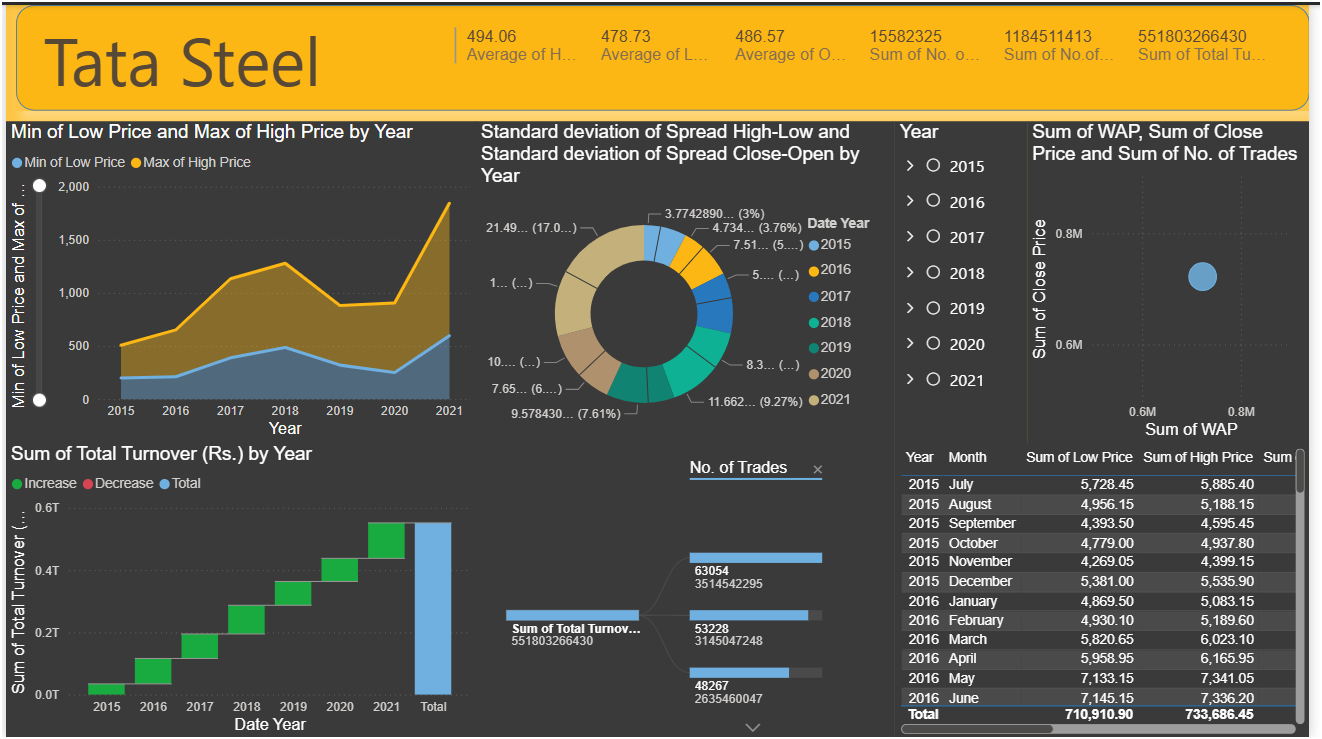

The page's visual inventory and layout, read from the dashboard file:
{"tool":"powerbi","page":{"name":"Tata Steel","canvas":[1280,720],"ordinal":0},"visuals":[{"type":"shape","box":[10,0,1270,103.8],"z":0},{"type":"stackedAreaChart","fields":{"Category":["Tata-steel.Date.Variation.Date Hierarchy.Year","Tata-steel.Date.Variation.Date Hierarchy.Quarter","Tata-steel.Date.Variation.Date Hierarchy.Month","Tata-steel.Date.Variation.Date Hierarchy.Day"],"Y":["Min(Tata-steel.Low Price)","Max(Tata-steel.High Price)"]},"box":[0,114.1,461.4,315.3],"z":1000},{"type":"donutChart","fields":{"Category":["Tata-steel.Date.Variation.Date Hierarchy.Year","Tata-steel.Date.Variation.Date Hierarchy.Quarter","Tata-steel.Date.Variation.Date Hierarchy.Month","Tata-steel.Date.Variation.Date Hierarchy.Day"],"Y":["Sum(Tata-steel.Spread High-Low)","Sum(Tata-steel.Spread Close-Open)"]},"box":[461.2,113.8,411.2,316.2],"z":2000},{"type":"multiRowCard","fields":{"Values":["Avg(Tata-steel.High Price)","Avg(Tata-steel.Low Price)","Avg(Tata-steel.Open Price)","Sum(Tata-steel.No. of Trades)","Sum(Tata-steel.No.of Shares)","Sum(Tata-steel.Total Turnover (Rs.))"]},"box":[435,17.5,812.5,67.5],"z":3000},{"type":"waterfallChart","fields":{"Category":["Tata-steel.Date.Variation.Date Hierarchy.Year","Tata-steel.Date.Variation.Date Hierarchy.Quarter","Tata-steel.Date.Variation.Date Hierarchy.Month","Tata-steel.Date.Variation.Date Hierarchy.Day"],"Y":["Sum(Tata-steel.Total Turnover (Rs.))"]},"box":[0,430,461.4,290],"z":4000},{"type":"listSlicer","fields":{"Values":["Tata-steel.Date.Variation.Date Hierarchy.Year","Tata-steel.Date.Variation.Date Hierarchy.Quarter","Tata-steel.Date.Variation.Date Hierarchy.Month","Tata-steel.Date.Variation.Date Hierarchy.Day"]},"box":[872.4,114.1,130.1,316.6],"z":5000},{"type":"decompositionTreeVisual","fields":{"Analyze":["Sum(Tata-steel.Total Turnover (Rs.))"],"ExplainBy":["Tata-steel.No. of Trades"]},"box":[461.4,429.5,411,290.8],"z":6000},{"type":"scatterChart","fields":{"X":["Sum(Tata-steel.WAP)"],"Y":["Sum(Tata-steel.Close Price)"],"Size":["Sum(Tata-steel.No. of Trades)"]},"box":[1002.5,114.1,277.3,316.6],"z":7000},{"type":"tableEx","fields":{"Values":["Tata-steel.Date.Variation.Date Hierarchy.Year","Tata-steel.Date.Variation.Date Hierarchy.Month","Sum(Tata-steel.Low Price)","Sum(Tata-steel.High Price)","Sum(Tata-steel.Spread High-Low)","Sum(Tata-steel.Spread Close-Open)","Sum(Tata-steel.Total Turnover (Rs.))","Sum(Tata-steel.No. of Trades)"]},"box":[872.4,430.7,407.4,289.6],"z":8000}]}

Visuals, with their boxes in screenshot pixels (x1, y1, x2, y2), scaled from the page's 1280x720 canvas onto the 1322x739 screenshot:
shape: 10, 0, 1321, 107
stackedAreaChart - Tata-steel.Date.Variation.Date Hierarchy.Year x Tata-steel.Date.Variation.Date Hierarchy.Quarter: 0, 117, 477, 441
donutChart - Tata-steel.Date.Variation.Date Hierarchy.Year x Tata-steel.Date.Variation.Date Hierarchy.Quarter: 476, 117, 901, 441
multiRowCard - Avg(Tata-steel.High Price) x Avg(Tata-steel.Low Price): 449, 18, 1288, 87
waterfallChart - Tata-steel.Date.Variation.Date Hierarchy.Year x Tata-steel.Date.Variation.Date Hierarchy.Quarter: 0, 441, 477, 738
listSlicer - Tata-steel.Date.Variation.Date Hierarchy.Year x Tata-steel.Date.Variation.Date Hierarchy.Quarter: 901, 117, 1035, 442
decompositionTreeVisual - Sum(Tata-steel.Total Turnover (Rs.)) x Tata-steel.No. of Trades: 477, 441, 901, 738
scatterChart - Sum(Tata-steel.WAP) x Sum(Tata-steel.Close Price): 1035, 117, 1321, 442
tableEx - Tata-steel.Date.Variation.Date Hierarchy.Year x Tata-steel.Date.Variation.Date Hierarchy.Month: 901, 442, 1321, 738
